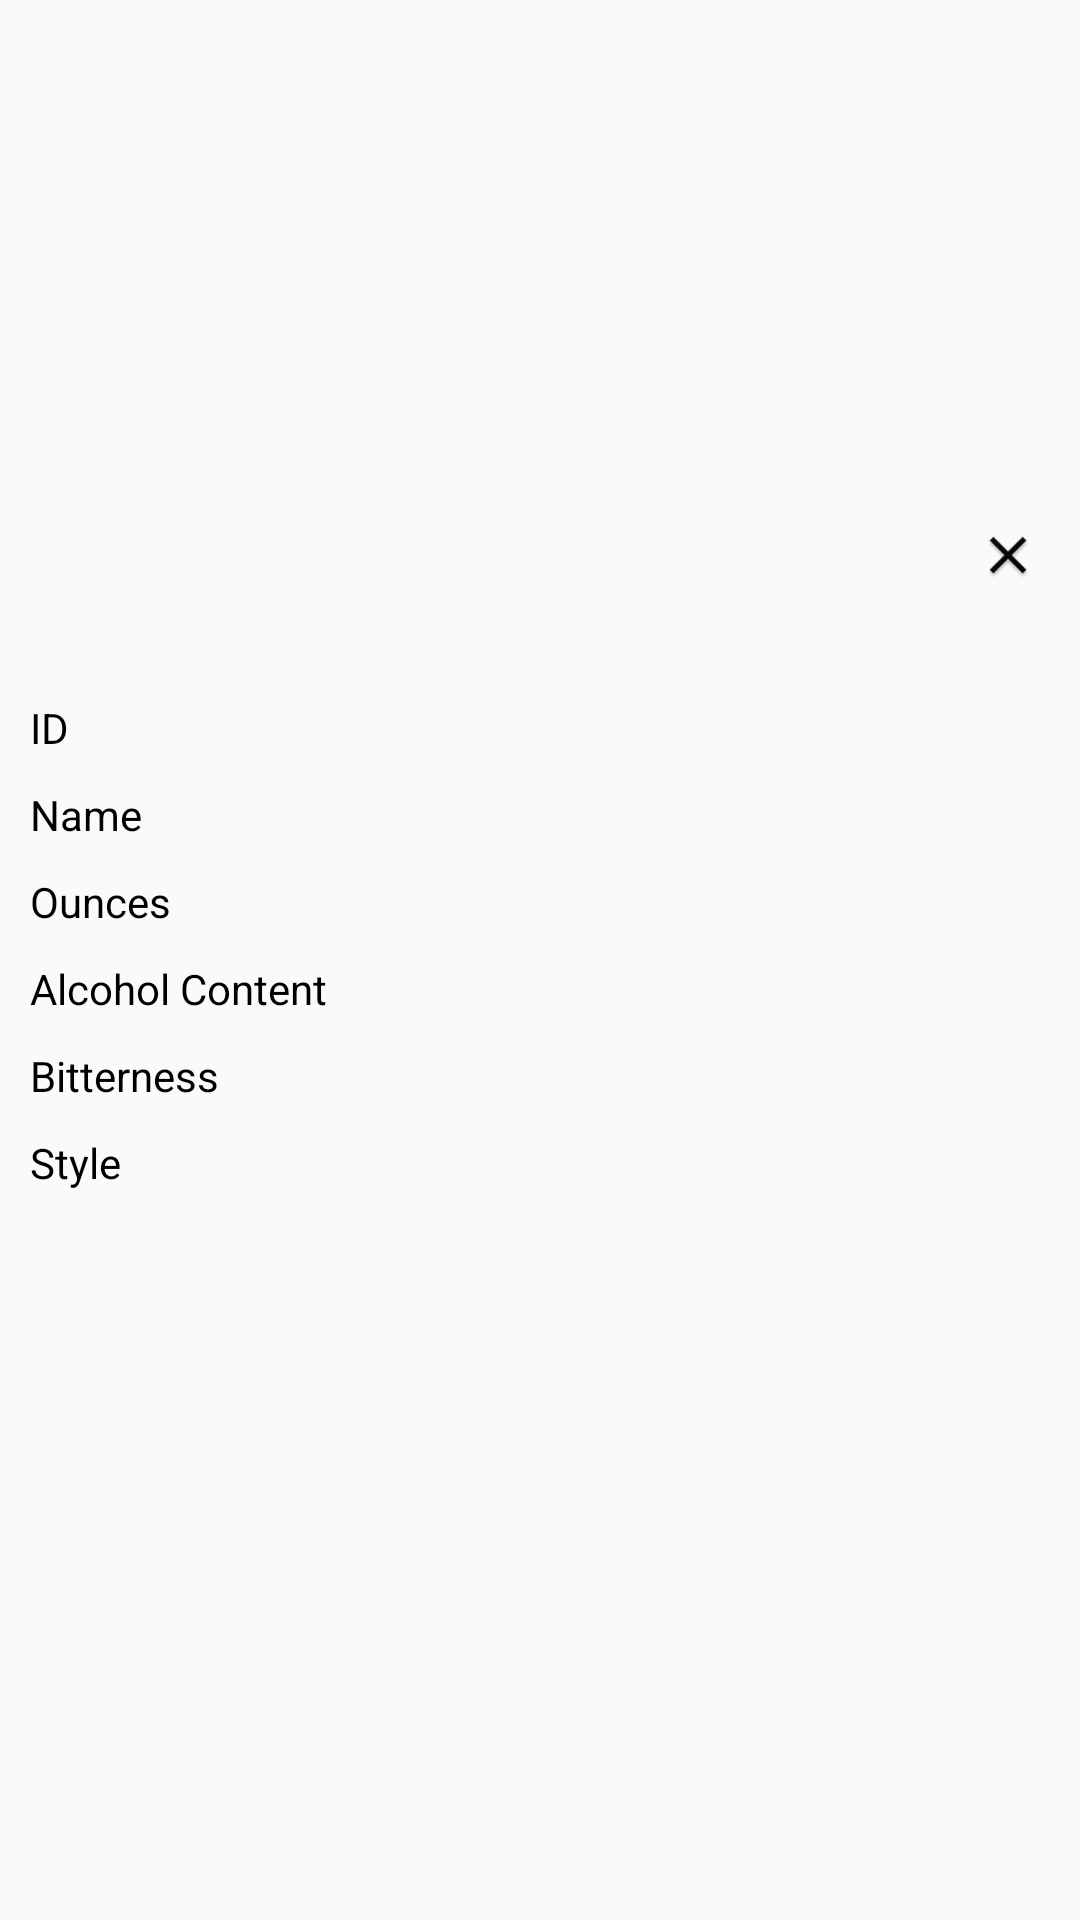

Point at icon controls on the screen. Image size 1080x1920, points as point (x, y).
close: point (1008, 555)
